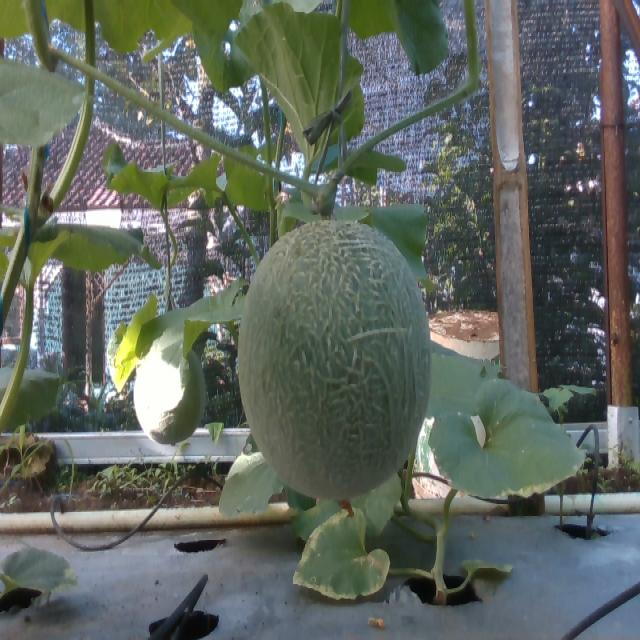melon: (239, 220, 431, 501)
